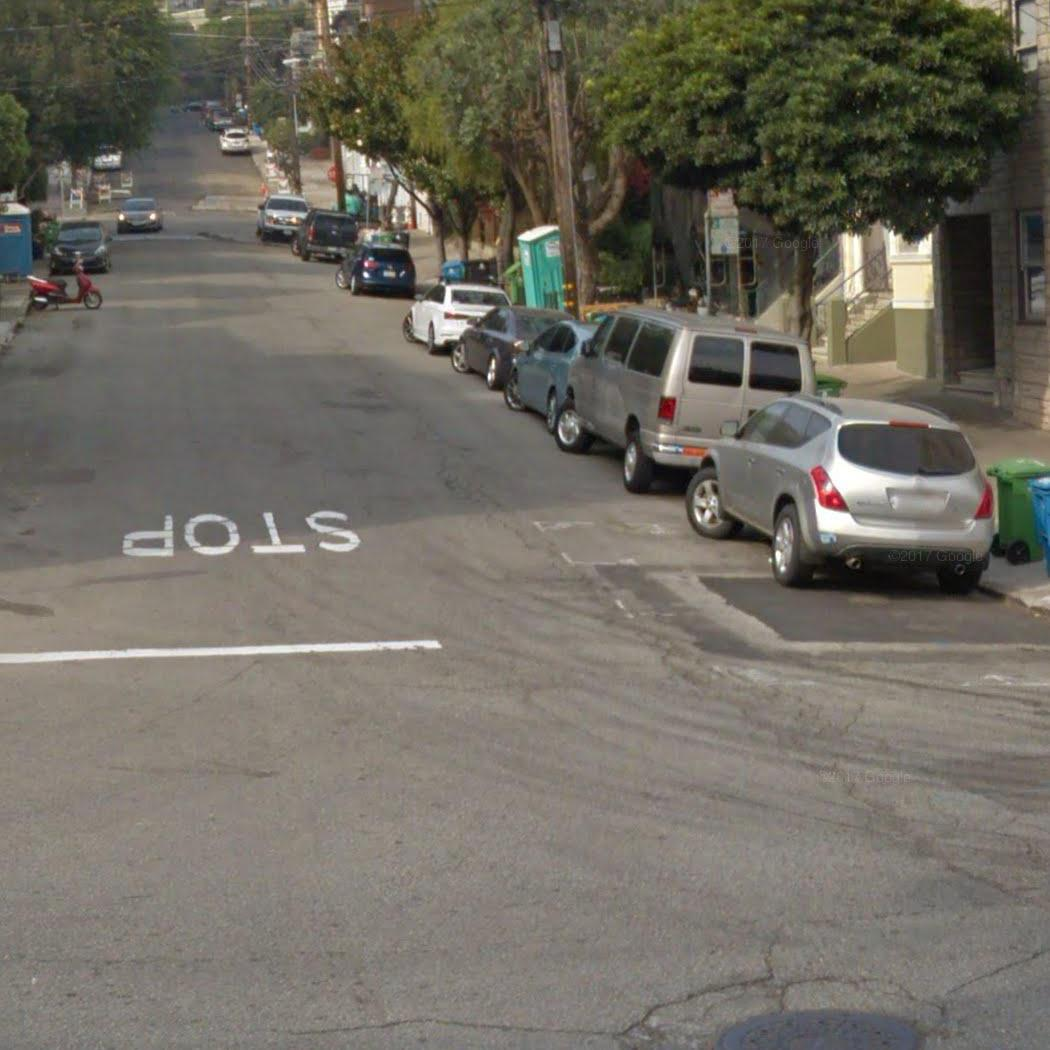2 Hour Parking: (712, 222, 742, 257)
